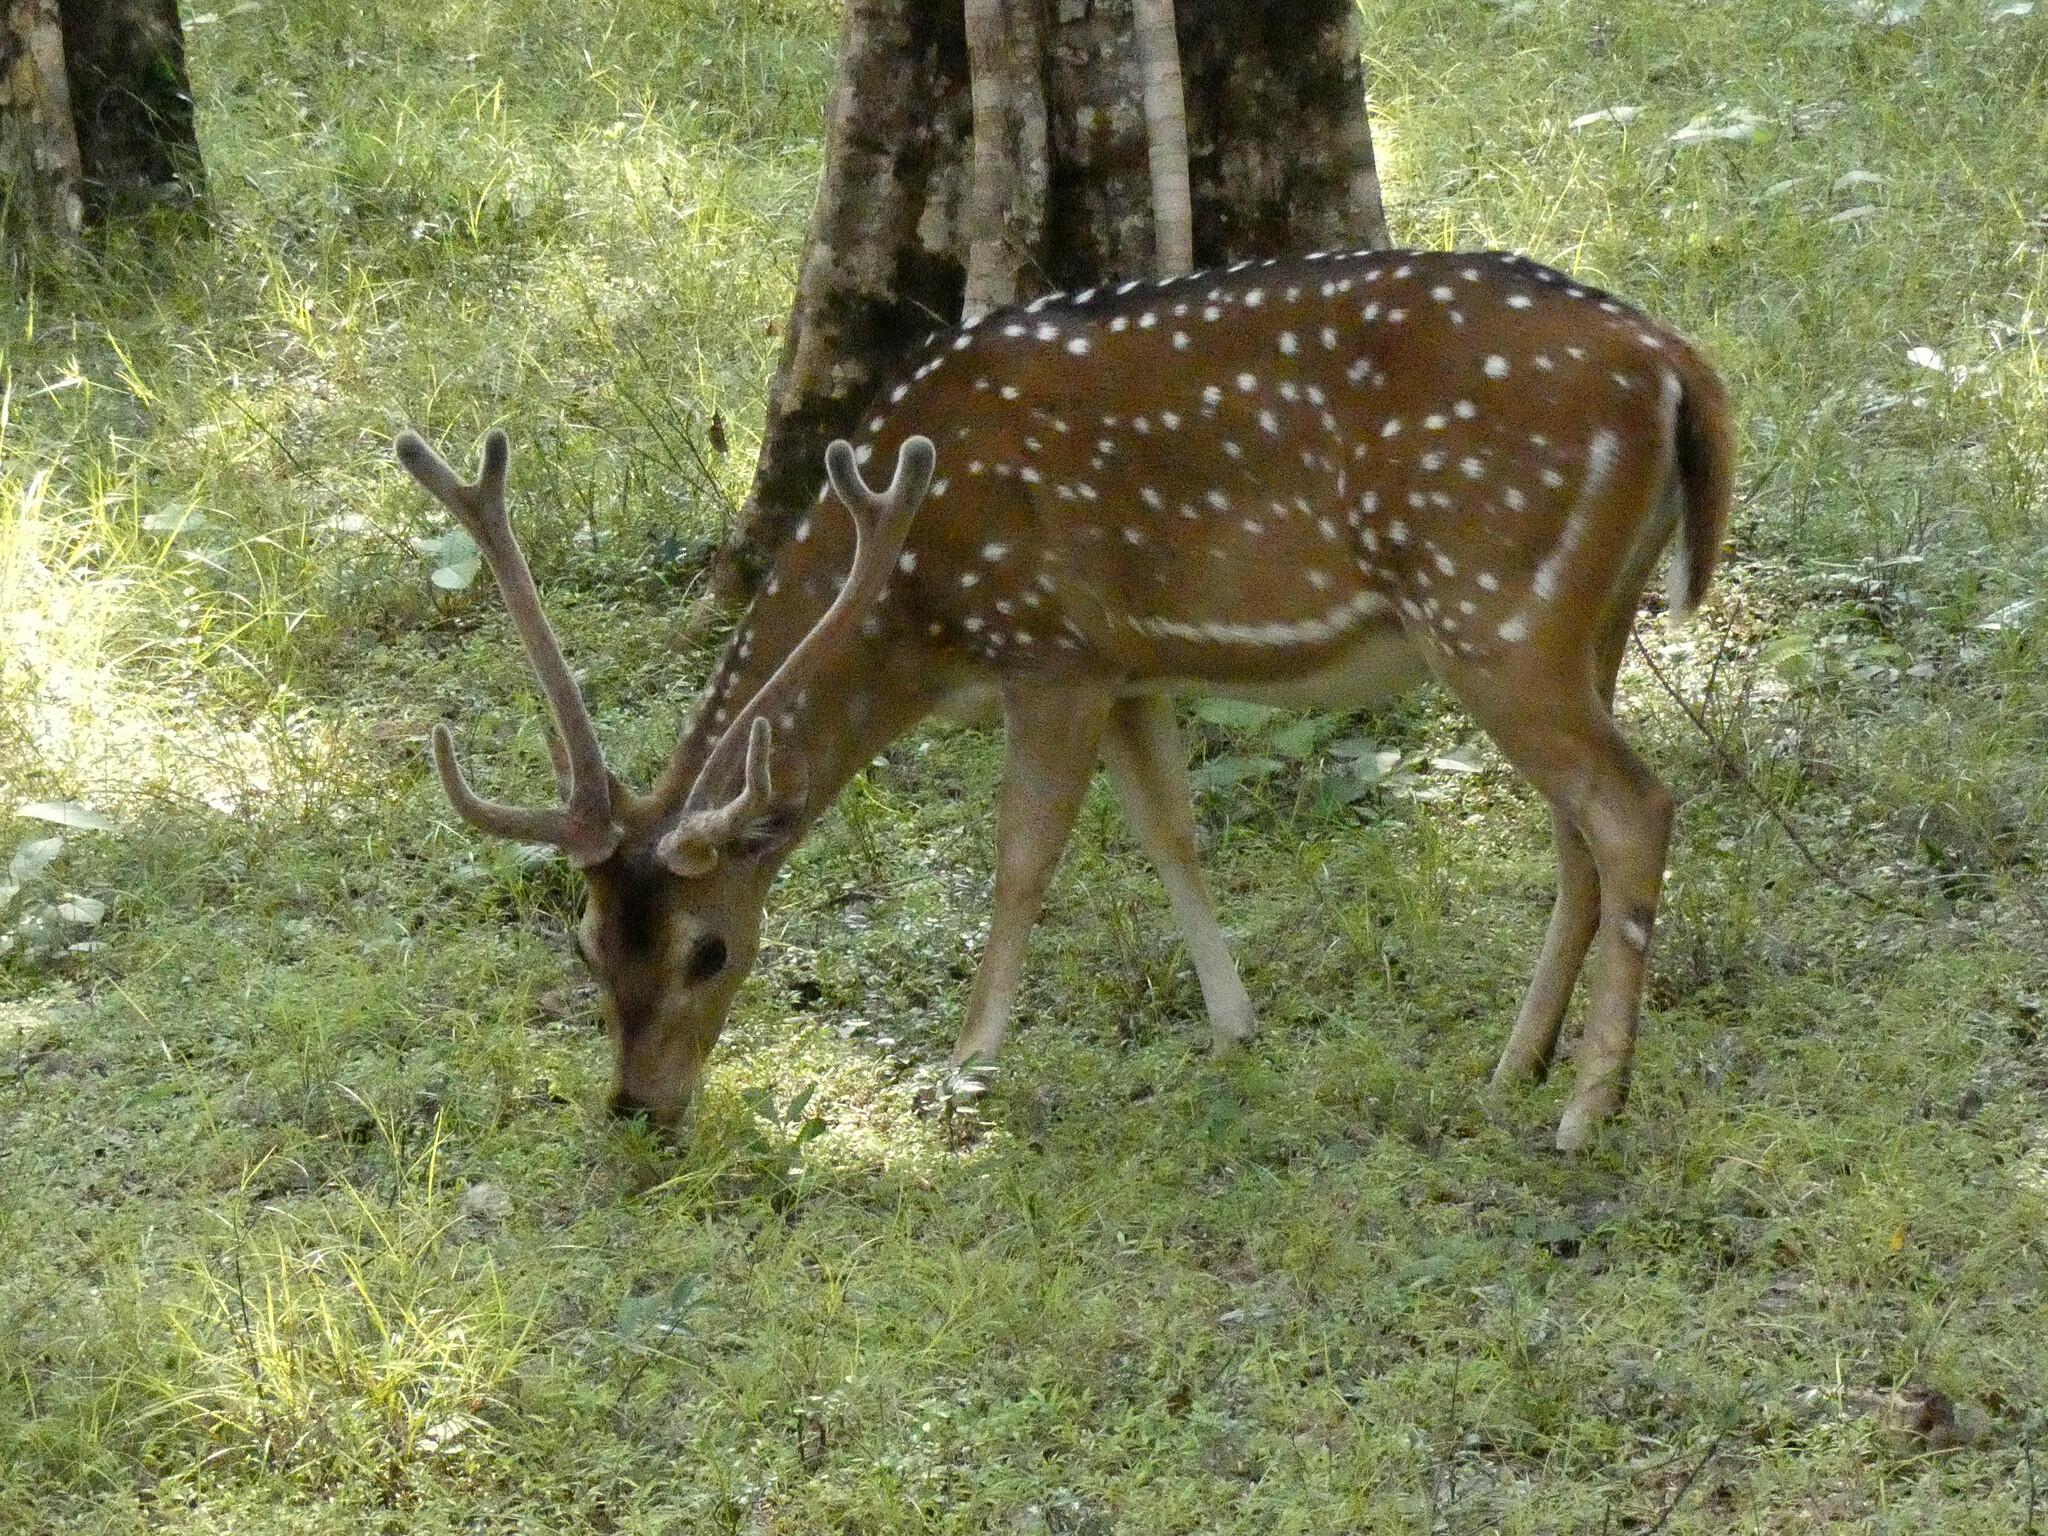Deer: (400, 252, 1730, 1147)
